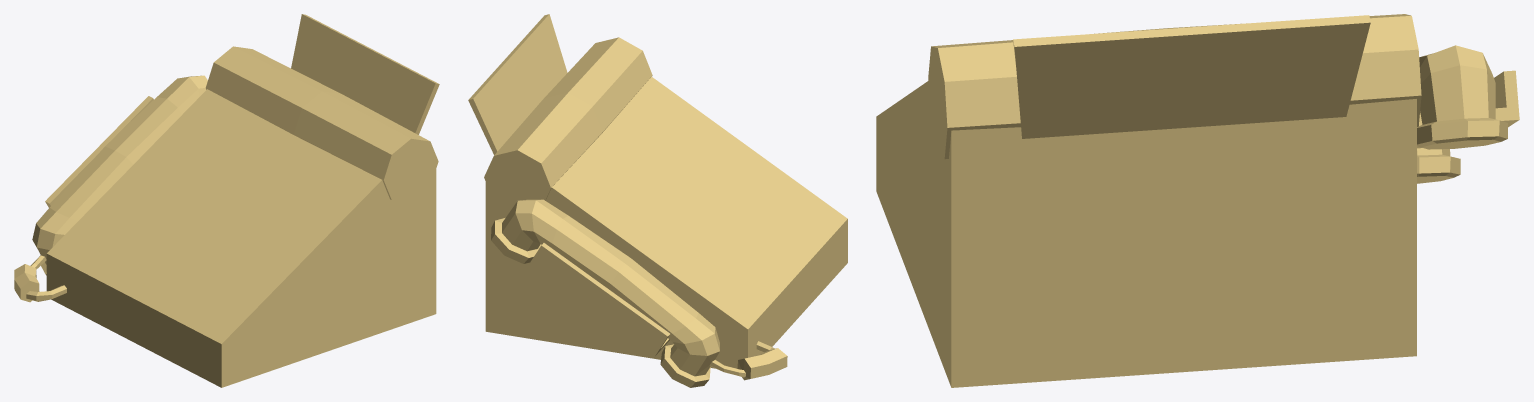
The model's file is Fax.fbx.
The picture shows the model from 3 angles, left to right: view 1: azimuth 30°, elevation 25°; view 2: azimuth 150°, elevation 25°; view 3: azimuth 270°, elevation 25°; orthographic projection. The views are drawn at different scales.
Visible parts, largest first — view 1: Fax; view 2: Fax; view 3: Fax.
Part boxes in pixels (x1,y1,x2,y2): Fax: (14,14,439,387); Fax: (468,14,847,387); Fax: (876,14,1519,387).
Size of the model in its own units: 67.99 by 42.49 by 67.49.
